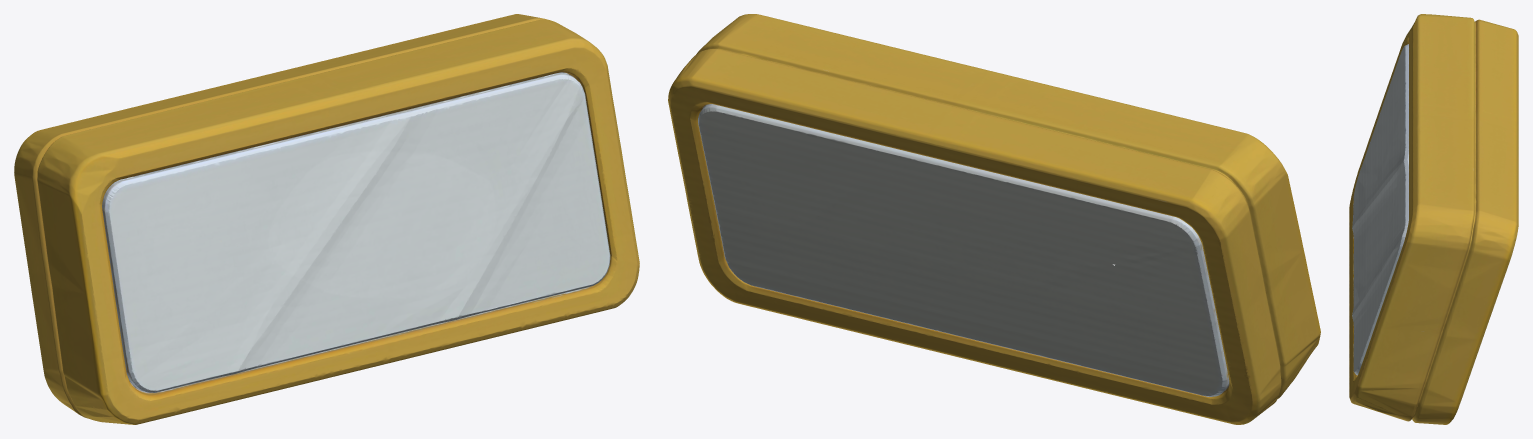
Rendered from ayna_plaka.glb.
3 views of the same model, side by side, from view 1: azimuth 30°, elevation 25°; view 2: azimuth 150°, elevation 25°; view 3: azimuth 270°, elevation 25° (orthographic). The views are drawn at different scales.
Visible parts, largest first — view 1: tripo_node_e8d9c5a6-c1db-4264-a354-40086ffd76f3; view 2: tripo_node_e8d9c5a6-c1db-4264-a354-40086ffd76f3; view 3: tripo_node_e8d9c5a6-c1db-4264-a354-40086ffd76f3.
Part boxes in pixels (x1,y1,x2,y2): tripo_node_e8d9c5a6-c1db-4264-a354-40086ffd76f3: [14, 14, 639, 424]; tripo_node_e8d9c5a6-c1db-4264-a354-40086ffd76f3: [668, 14, 1320, 424]; tripo_node_e8d9c5a6-c1db-4264-a354-40086ffd76f3: [1349, 14, 1518, 424].
Size of the model in its own units: 0.9797 by 0.4581 by 0.3226.
1 material, 1 textured.
